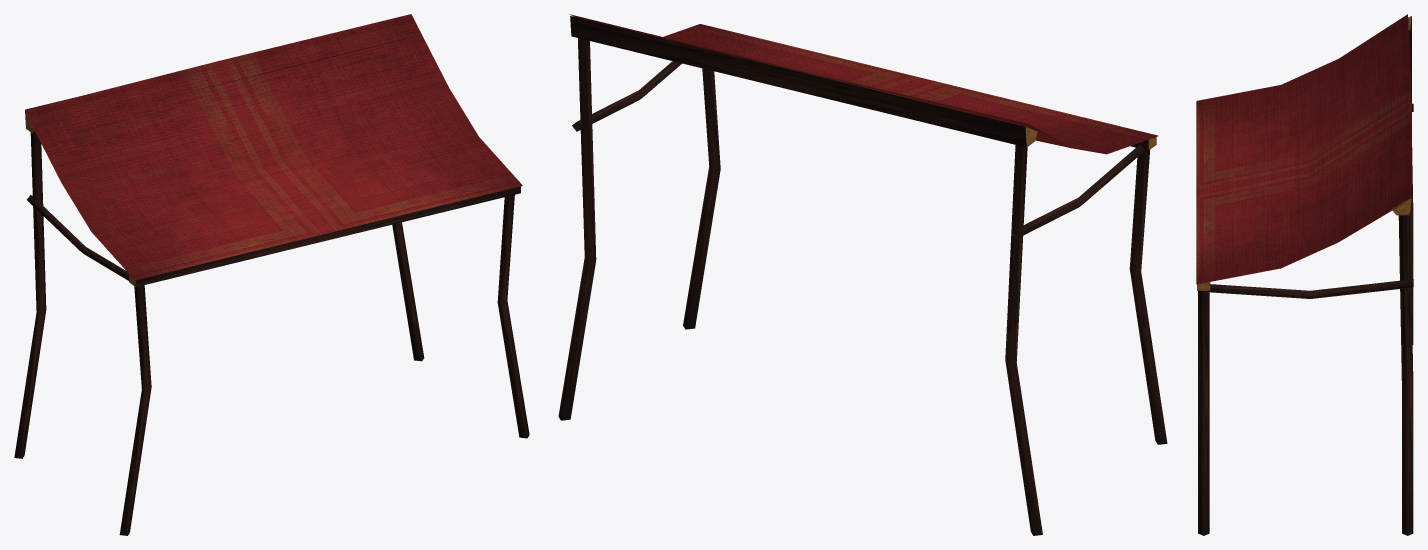
Rendered from Sunblind_03.FBX.
3 views of the same model, side by side, from view 1: azimuth 30°, elevation 25°; view 2: azimuth 150°, elevation 25°; view 3: azimuth 270°, elevation 25° (orthographic). The views are drawn at different scales.
Parts seen in each view (by area): view 1: Sunblind_03; view 2: Sunblind_03; view 3: Sunblind_03.
Boxes of the visible parts, x1,y1,x2,y2 form: Sunblind_03: (14,14,529,535); Sunblind_03: (558,14,1167,535); Sunblind_03: (1196,14,1413,535).
Bounding box in the file's own units: 0.6521 × 0.5243 × 0.3094.
